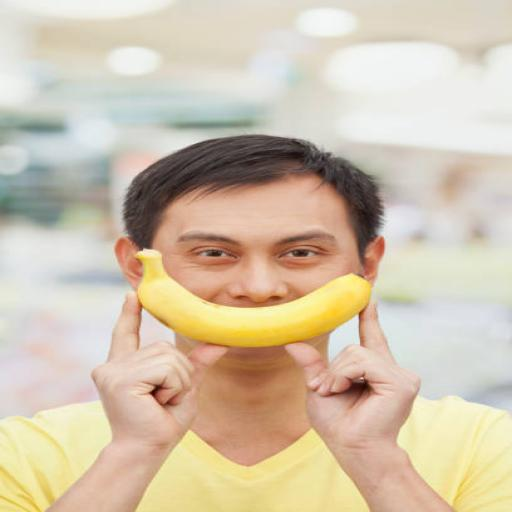banana: (136, 249, 371, 347)
